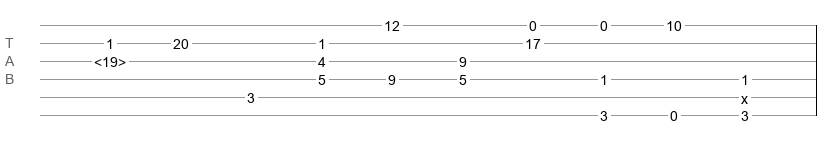0: (529, 18, 537, 28), (600, 18, 608, 28), (670, 108, 678, 118)
1: (106, 36, 114, 46), (318, 36, 326, 46), (600, 72, 608, 82), (741, 72, 749, 82)
10: (666, 18, 682, 28)
12: (384, 18, 400, 28)
17: (525, 36, 541, 46)
20: (173, 36, 189, 46)
3: (247, 90, 255, 100), (600, 108, 608, 118), (741, 108, 749, 118)
4: (318, 54, 326, 64)
5: (318, 72, 326, 82), (459, 72, 467, 82)
9: (388, 72, 396, 82), (459, 54, 467, 64)
harmonic: (94, 54, 126, 64)
x: (741, 91, 748, 99)
